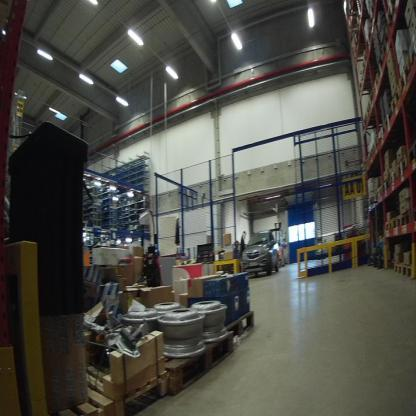pallets: (159, 313, 257, 395), (44, 367, 173, 416), (370, 144, 416, 207), (379, 211, 413, 238), (392, 253, 415, 288)
